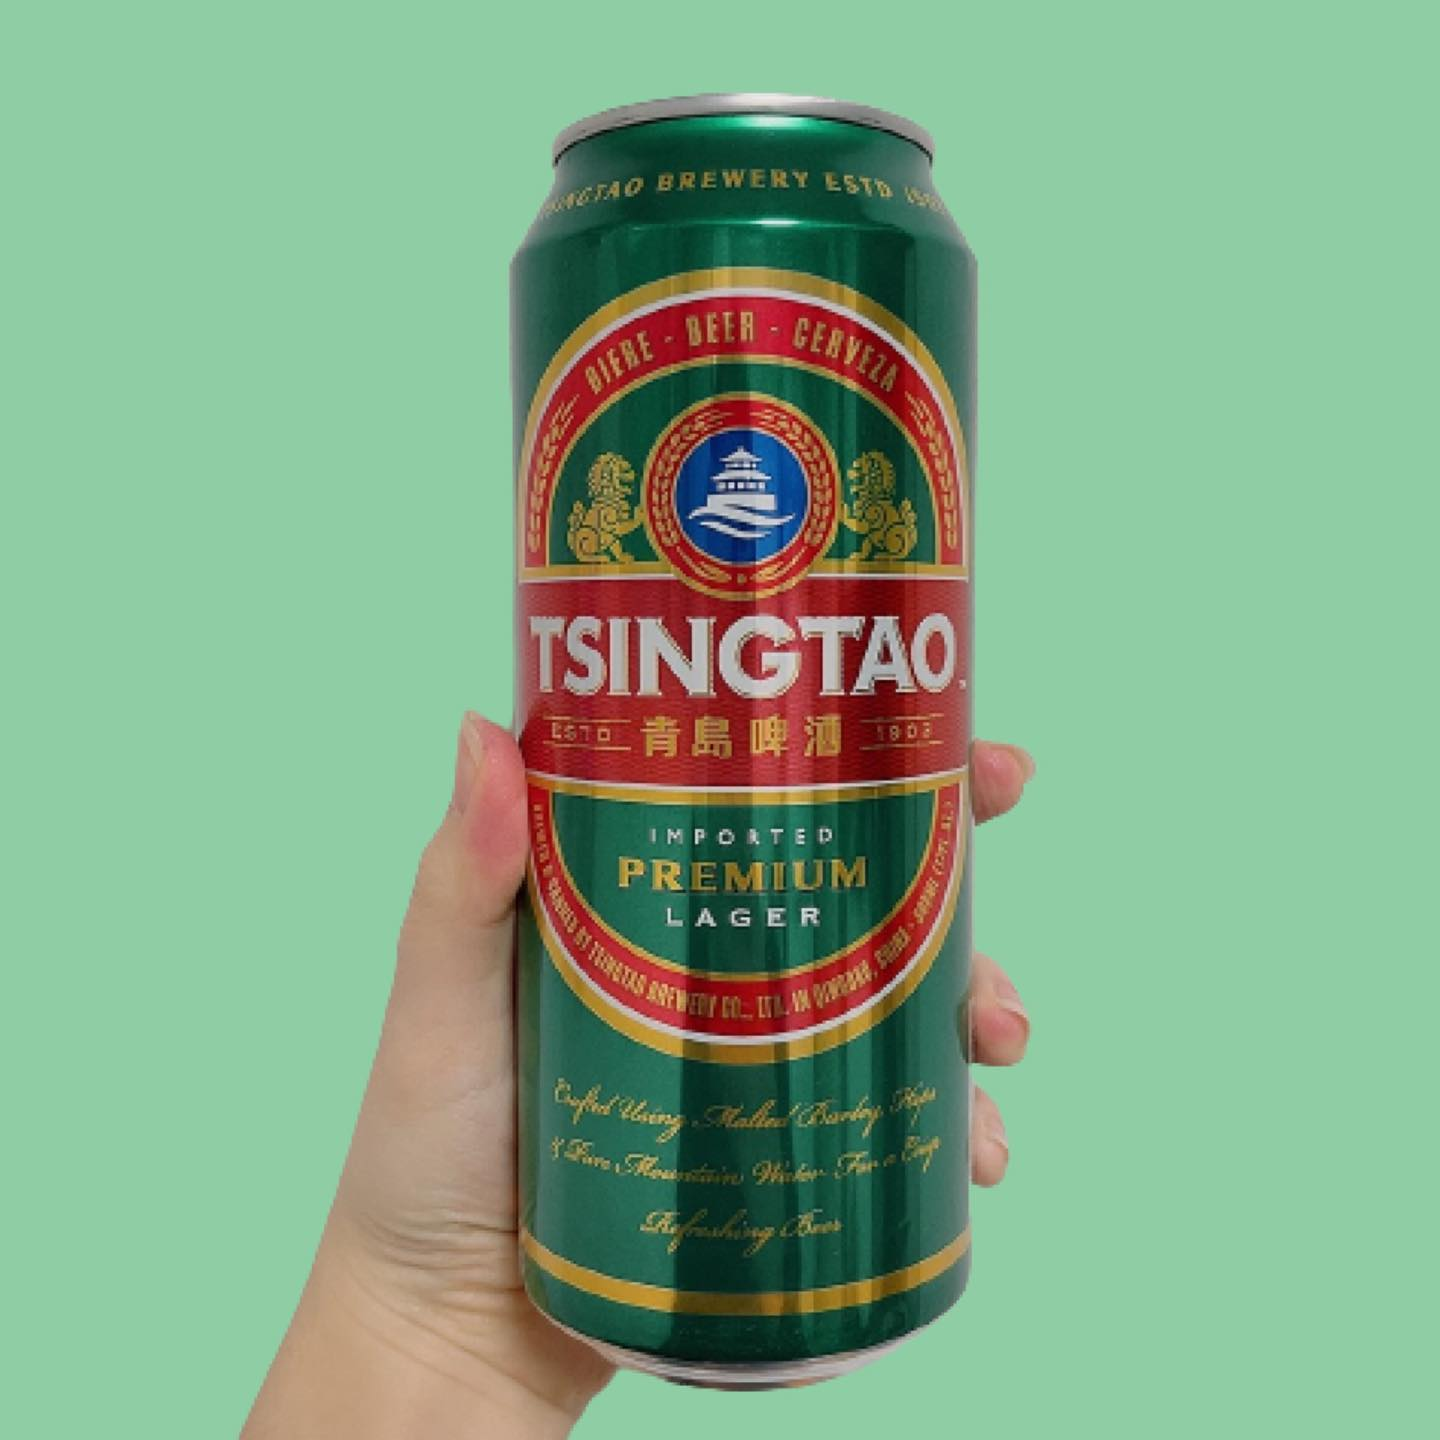alcohol: (498, 80, 989, 1403)
